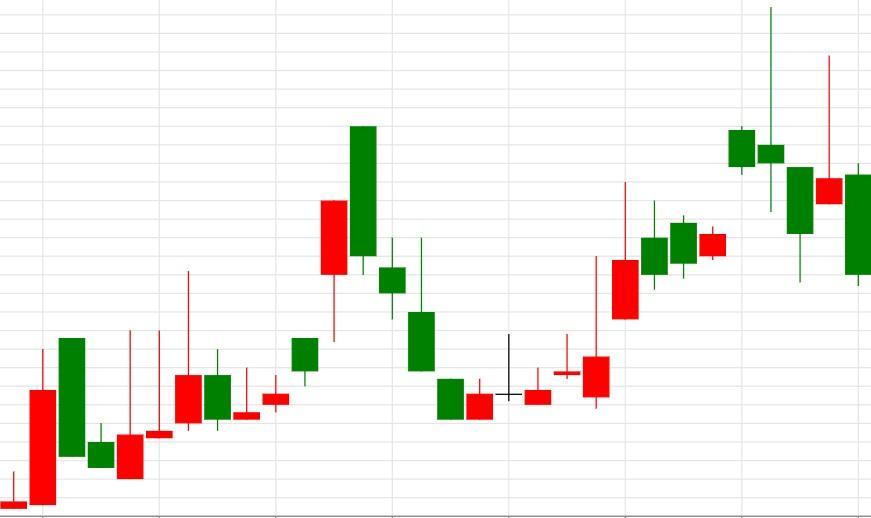three_black_crows_fall: (0, 126, 436, 509)
